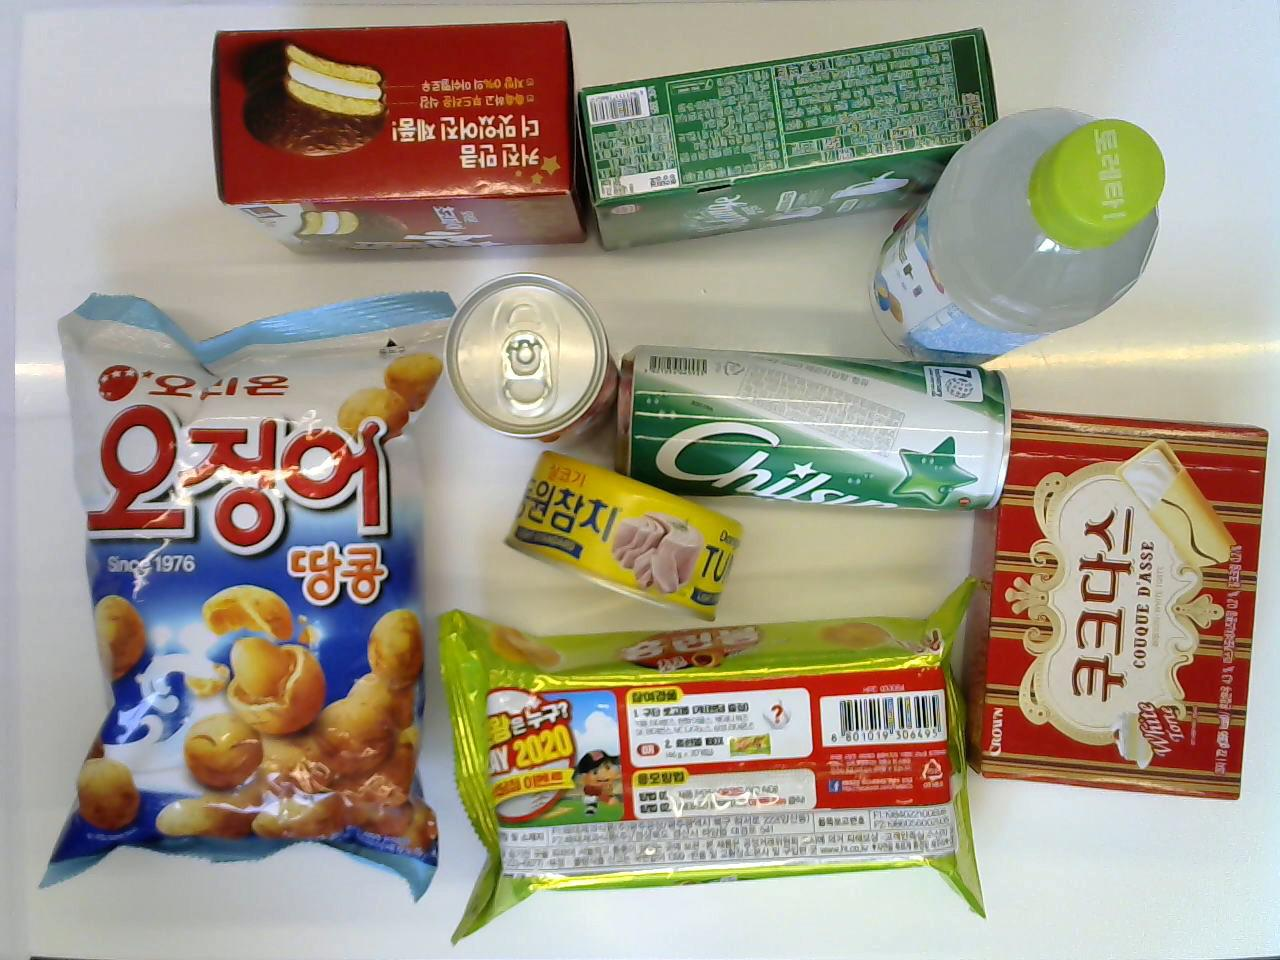chocopie: (206, 11, 586, 264)
cidar: (615, 340, 1014, 519)
coke: (446, 270, 626, 445)
couque_coffee: (577, 19, 1003, 263)
couque_white: (969, 398, 1268, 808)
homerunball: (429, 577, 993, 947)
squid_peanut: (31, 291, 455, 902)
toreta: (860, 106, 1168, 372)
tuna: (498, 448, 749, 621)
